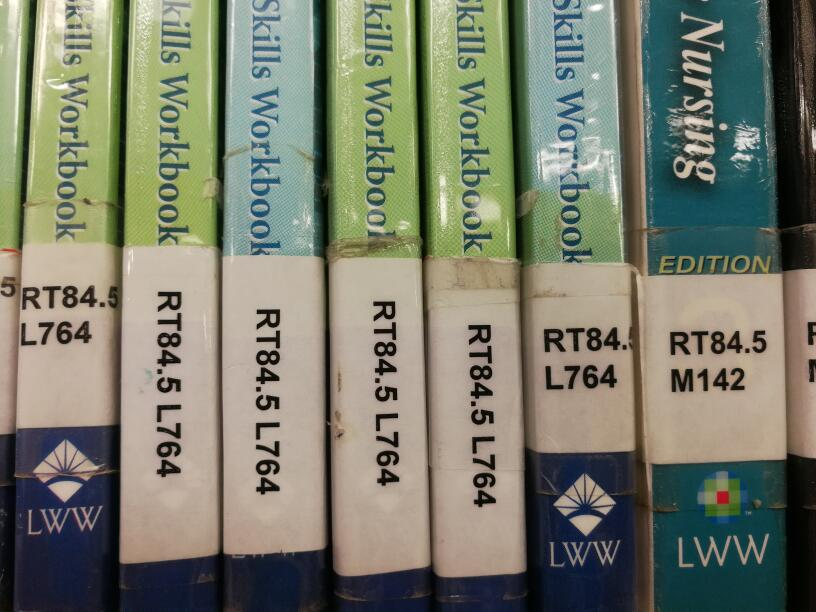booklabel: (662, 326, 771, 397), (368, 297, 406, 489), (462, 319, 500, 511), (537, 322, 636, 393), (150, 285, 186, 480), (18, 282, 120, 350), (250, 304, 283, 499)
